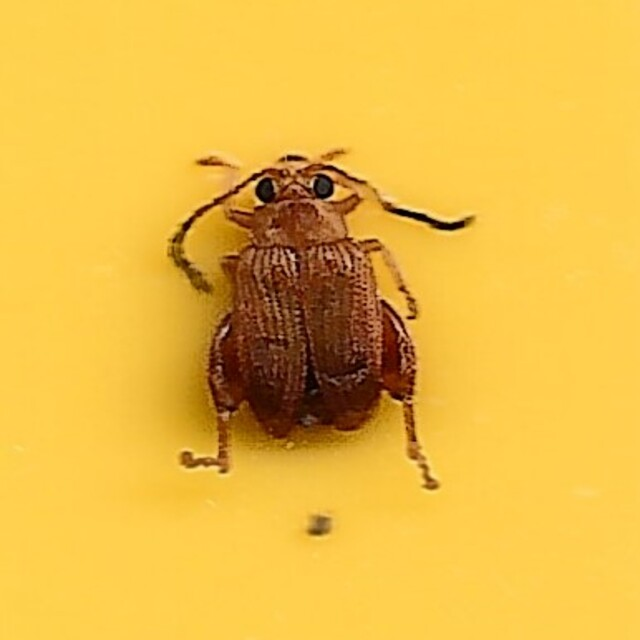Coleoptera: (166, 149, 474, 491)
